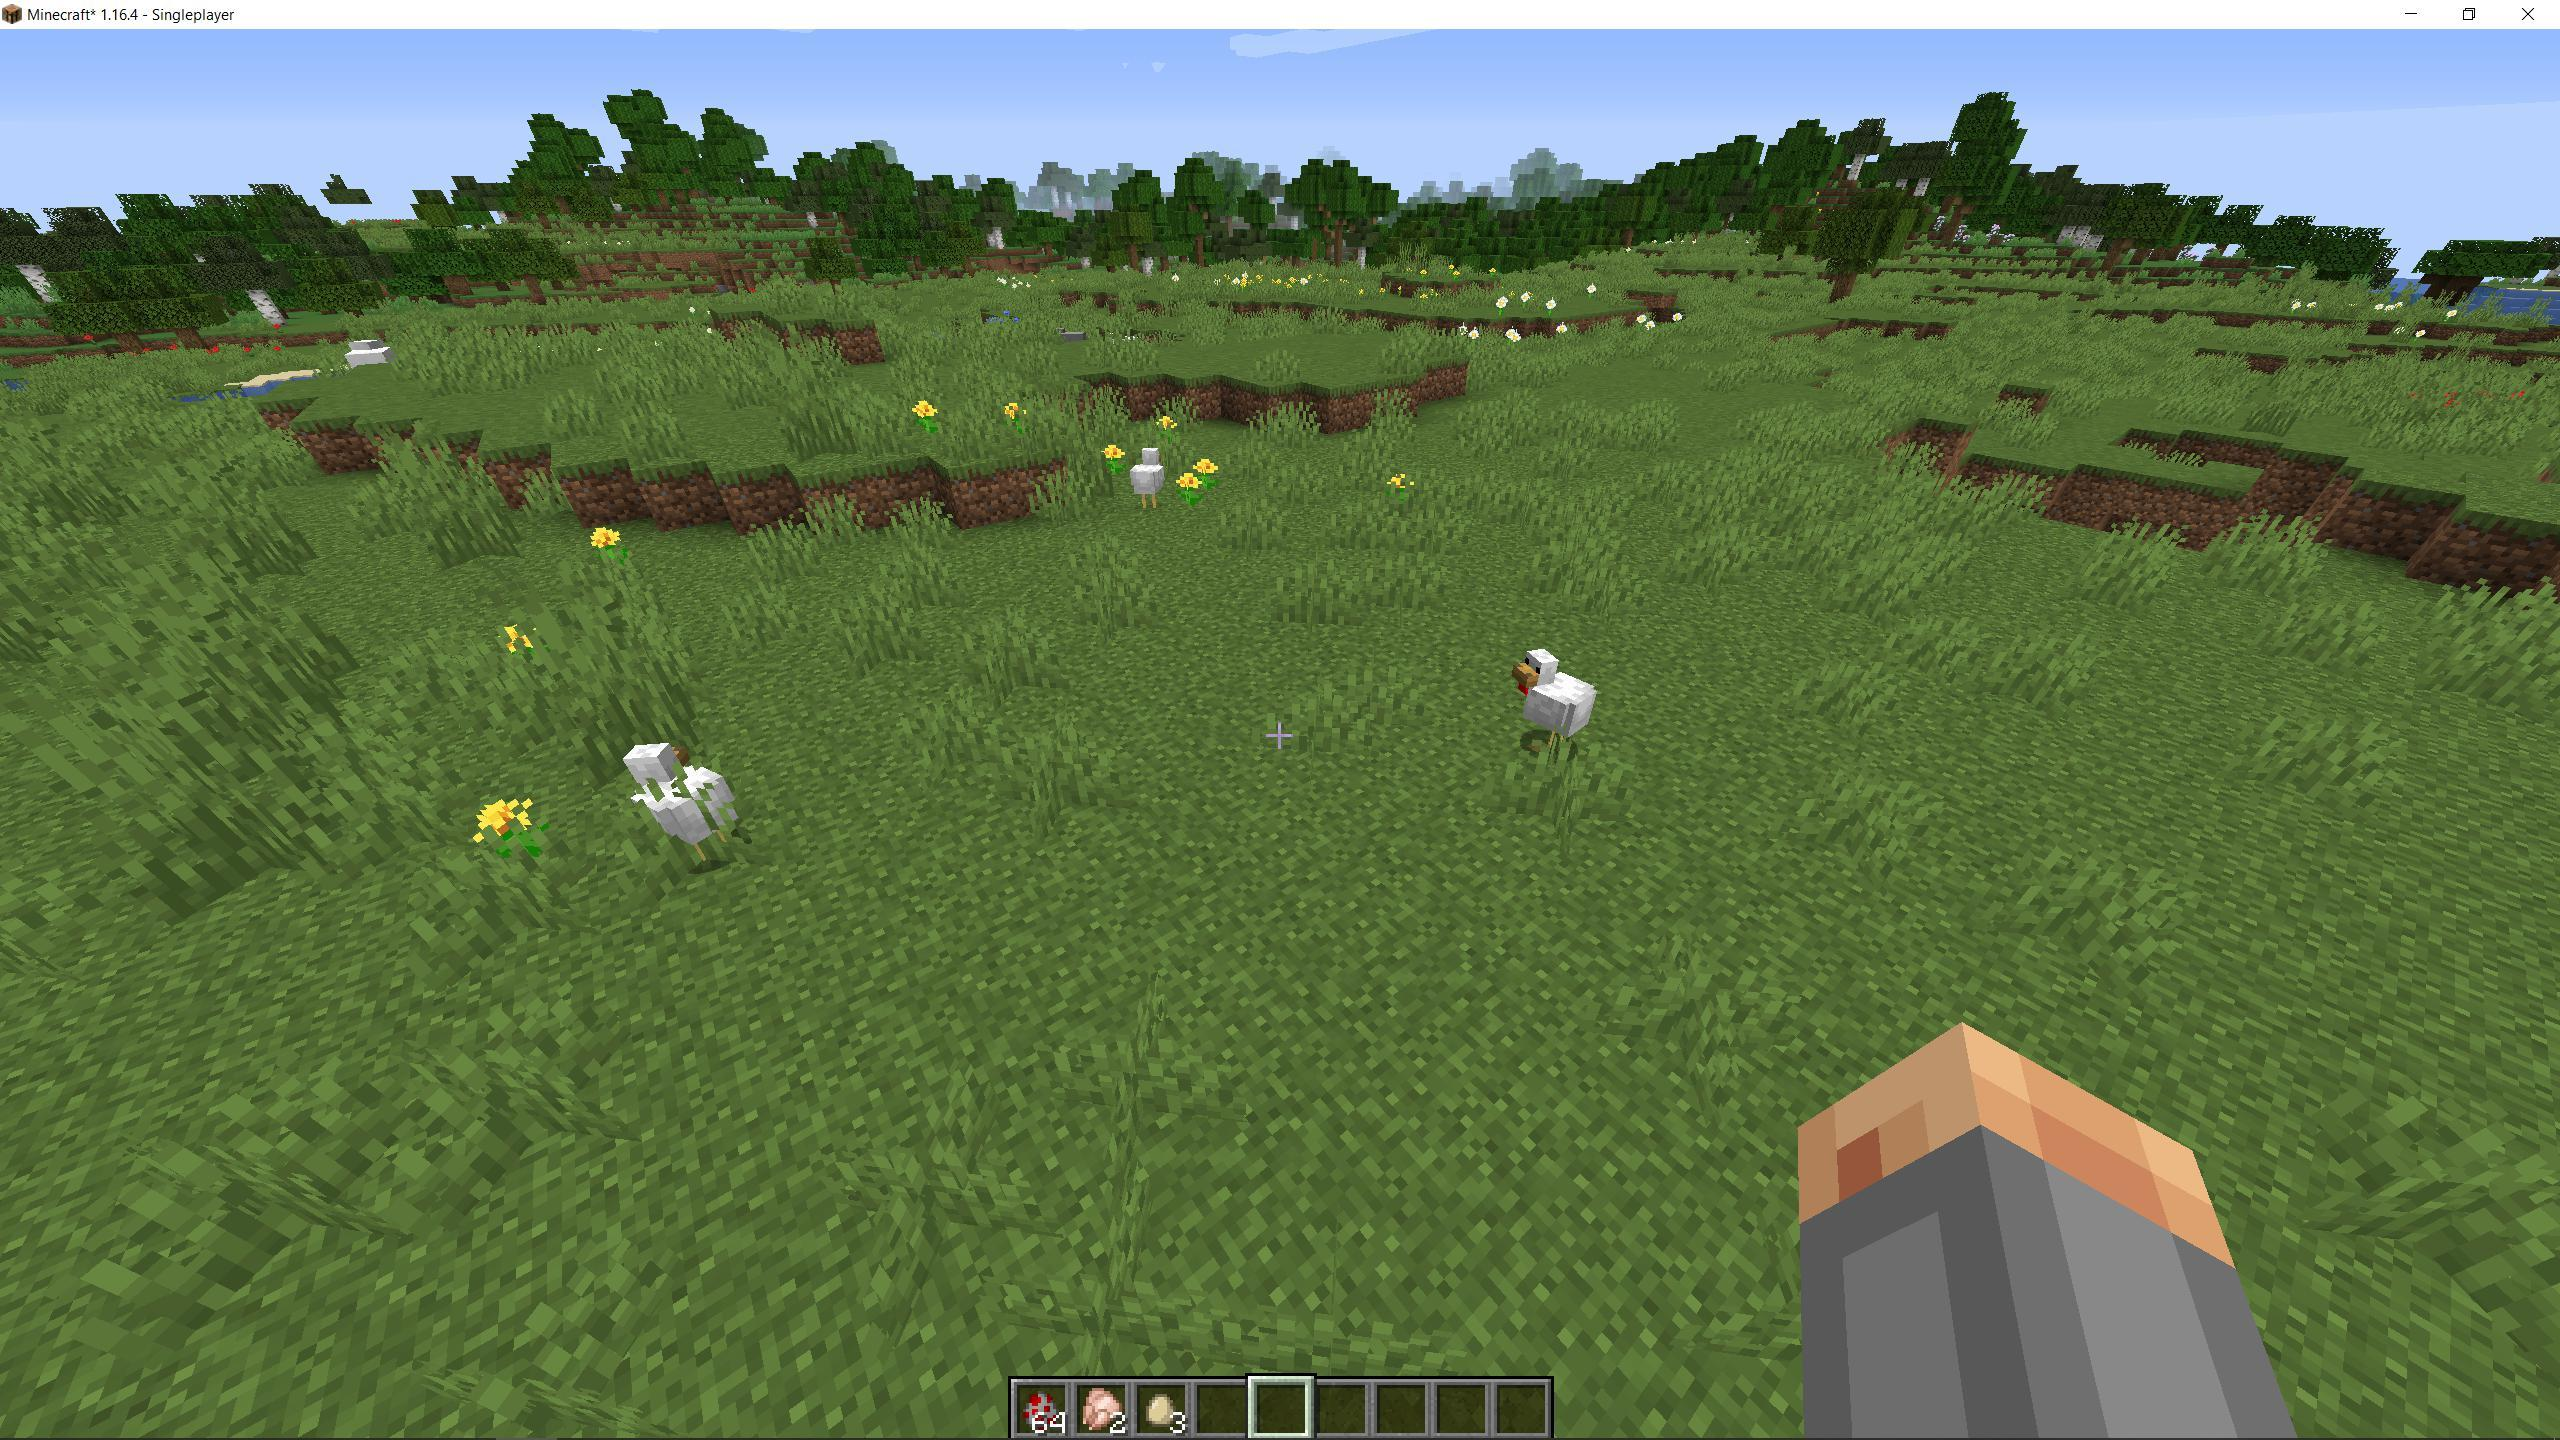chicken: (614, 714, 756, 877), (1516, 642, 1589, 767), (1122, 434, 1185, 524)
